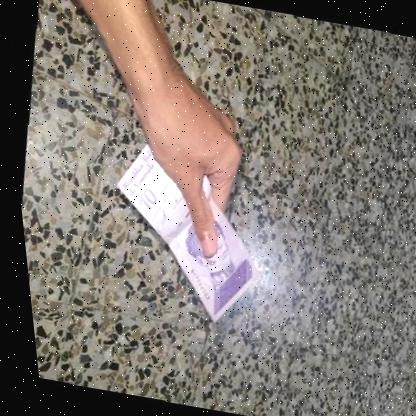ten-front-vef: (89, 132, 280, 330)
